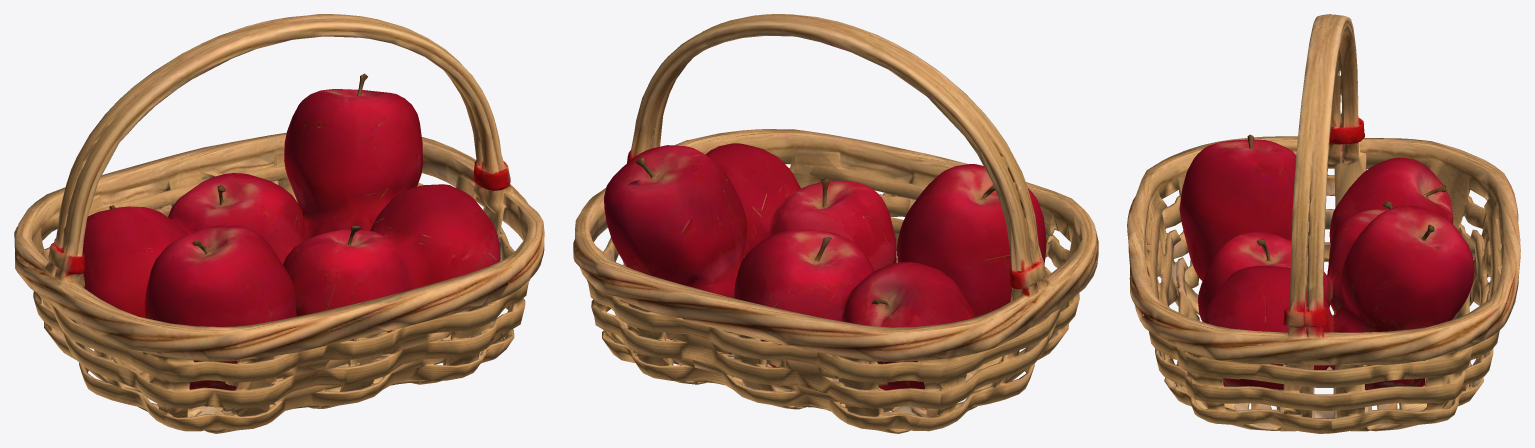
The model's file is apple-basket.glb.
The picture shows the model from 3 angles, left to right: view 1: azimuth 30°, elevation 25°; view 2: azimuth 150°, elevation 25°; view 3: azimuth 270°, elevation 25°; orthographic projection. The views are drawn at different scales.
Parts seen in each view (by area): view 1: Mesh_0; view 2: Mesh_0; view 3: Mesh_0.
Part boxes in pixels (x1,y1,x2,y2): Mesh_0: (14, 14, 544, 433); Mesh_0: (573, 14, 1098, 433); Mesh_0: (1127, 14, 1520, 433).
Size of the model in its own units: 0.3297 by 0.25 by 0.2655.
Materials: 1 (1 with a texture image).
